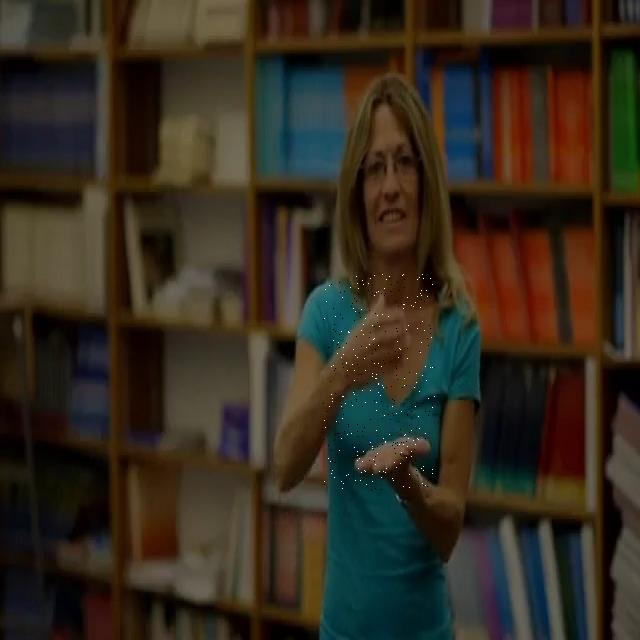cup: (323, 274, 435, 490)
